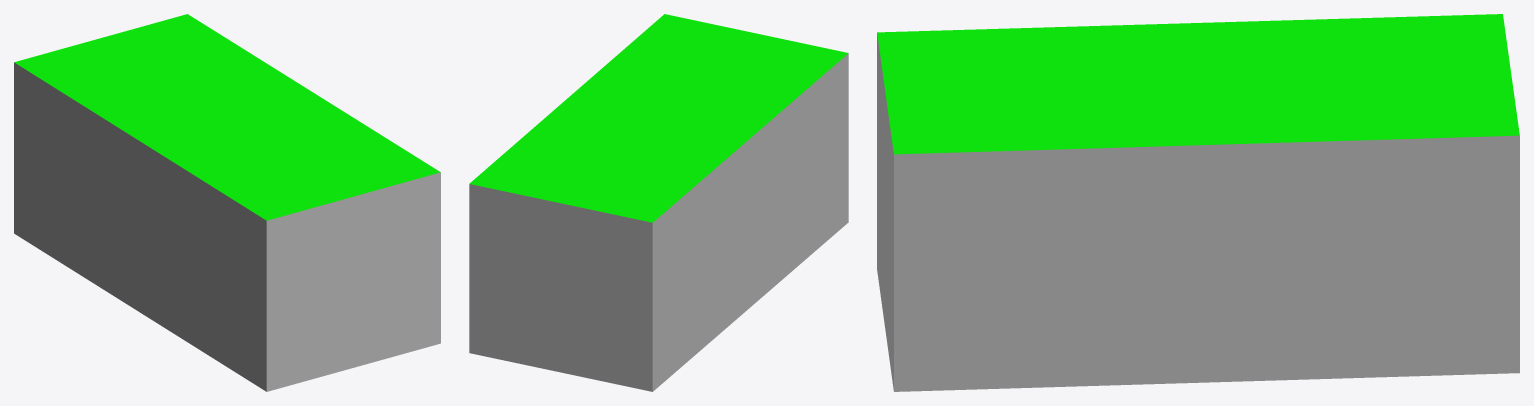
The model's file is DEHB01ALs0000geQ.dae.
3 renders of one model, left to right at view 1: azimuth 30°, elevation 25°; view 2: azimuth 150°, elevation 25°; view 3: azimuth 270°, elevation 25°, orthographic. The views are drawn at different scales.
Bounding box in the file's own units: 3.2 × 6.19 × 2.52.
